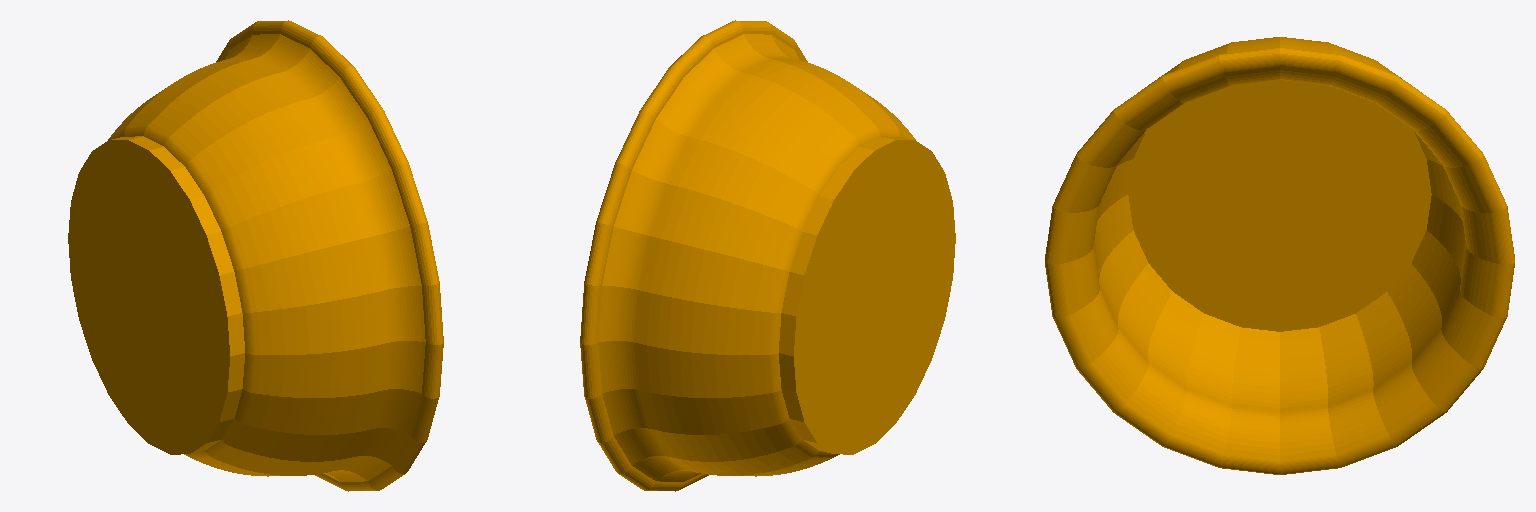
robot.urdf — obj_15:
<?xml version="1.0"?>
<robot name="obj_15">
  <link name="obj_15">
    <visual>
      <origin xyz="0.0 0.0 0.0" rpy="0 0 0"/>
      <geometry>
        <mesh filename="../mesh/ncf_mug_cupholder/obj_assets/15/obj_collision.obj" scale="1 1 1"/>
      </geometry>
    </visual>
    <collision>
      <origin xyz="0.0 0.0 0.0" rpy="0 0 0"/>
      <geometry>
        <mesh filename="../mesh/ncf_mug_cupholder/obj_assets/15/obj_collision.obj" scale="1 1 1"/>
      </geometry>
      <sdf resolution="512"/>
    </collision >    
    <inertial>
      <mass value="0.102"/>
      <inertia ixx="0.0001" ixy="0.0" ixz="0.0" iyy="0.0001" iyz="0.0" izz="0.0001"/>
    </inertial>
  </link>
</robot>

--- Facts derived from the render (not from the file) ---
The picture shows the robot from 3 angles, left to right: view 1: azimuth 30°, elevation 25°; view 2: azimuth 150°, elevation 25°; view 3: azimuth 270°, elevation 25°; orthographic projection.
Robot: obj_15 — 1 links, 0 joints (none); root link obj_15; default pose: every joint at zero.
Links seen in each view (by area): view 1: obj_15; view 2: obj_15; view 3: obj_15.
Link boxes in pixels (x1,y1,x2,y2): obj_15: [68, 20, 443, 491]; obj_15: [580, 20, 955, 491]; obj_15: [1045, 37, 1514, 474].
Size in the robot's own frame: 0.0428 by 0.1017 by 0.1017 metres.
1 mesh visuals loaded from 1 distinct referenced files (1 OBJ).